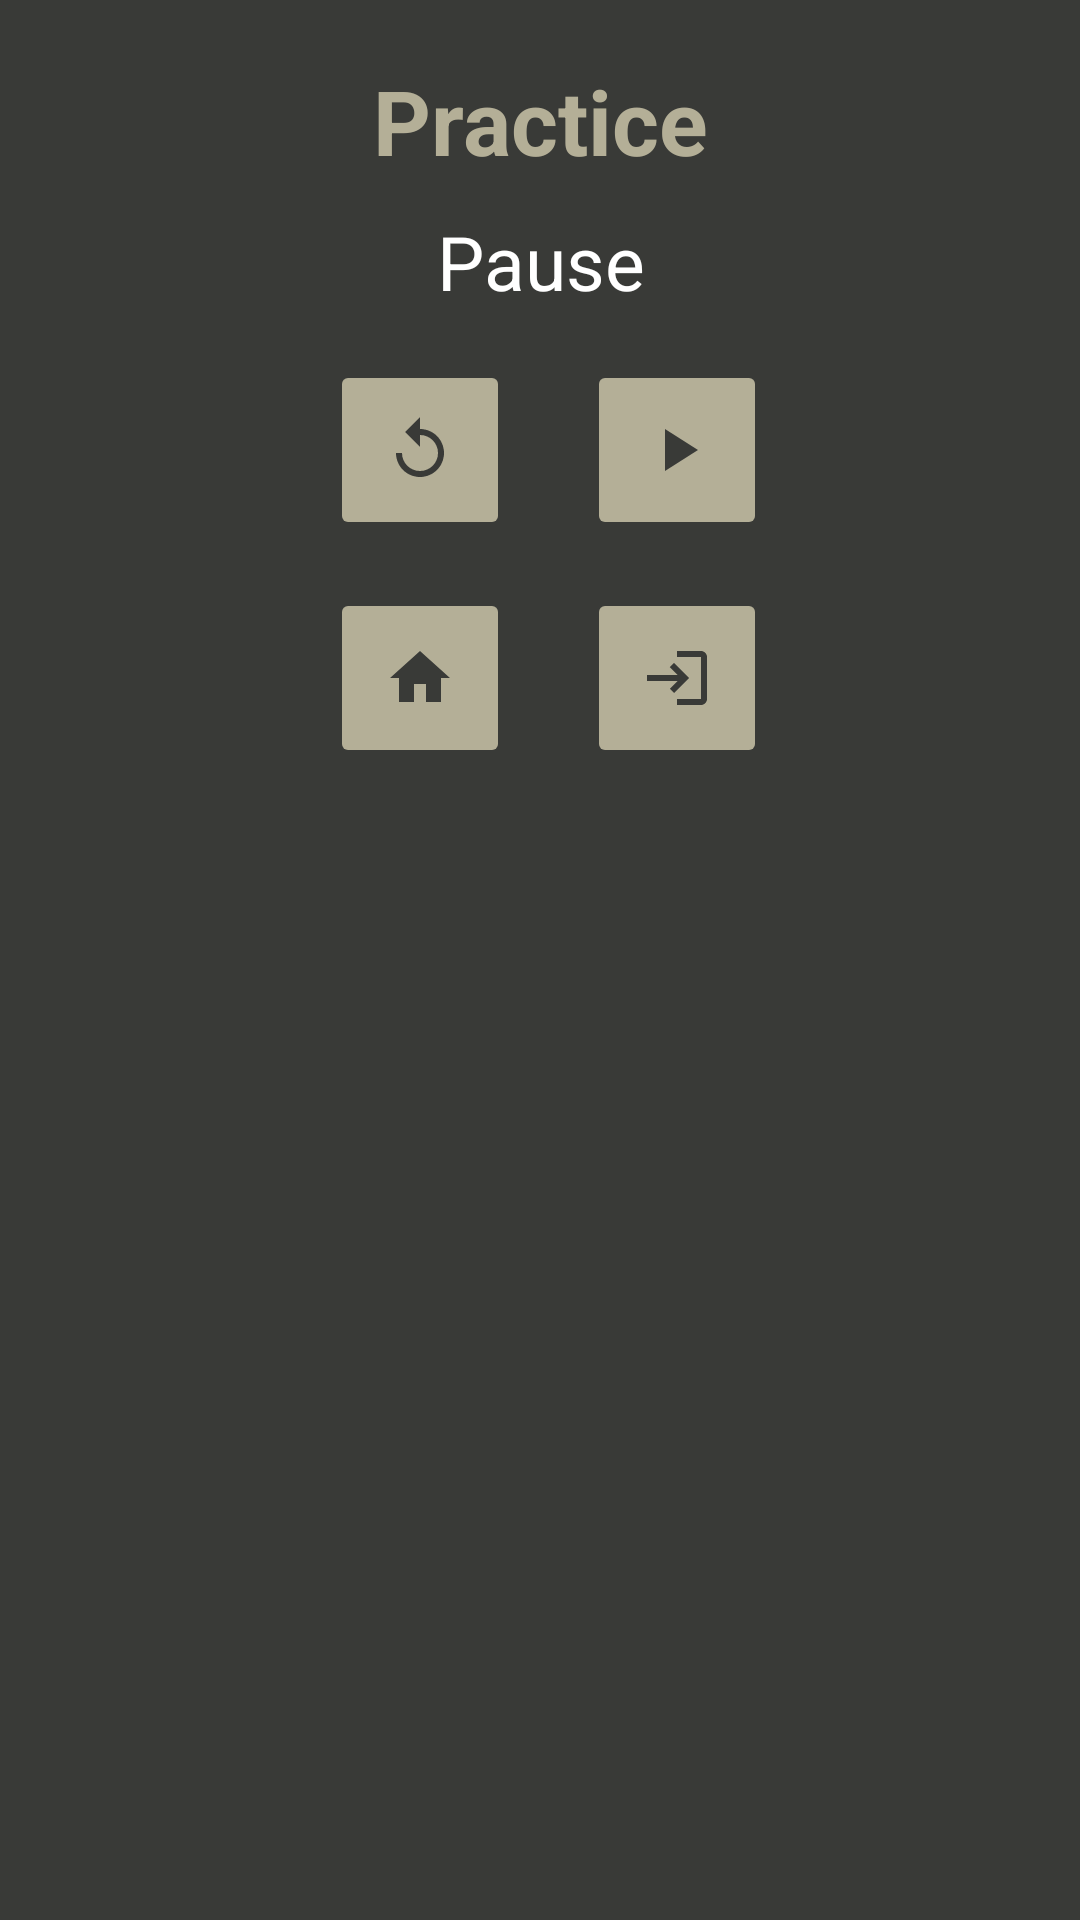

Icon click points for this 1080 x 1920 phone screenshot, format [x,y]:
home: [420,678]
play arrow: [677,450]
replay: [420,450]
